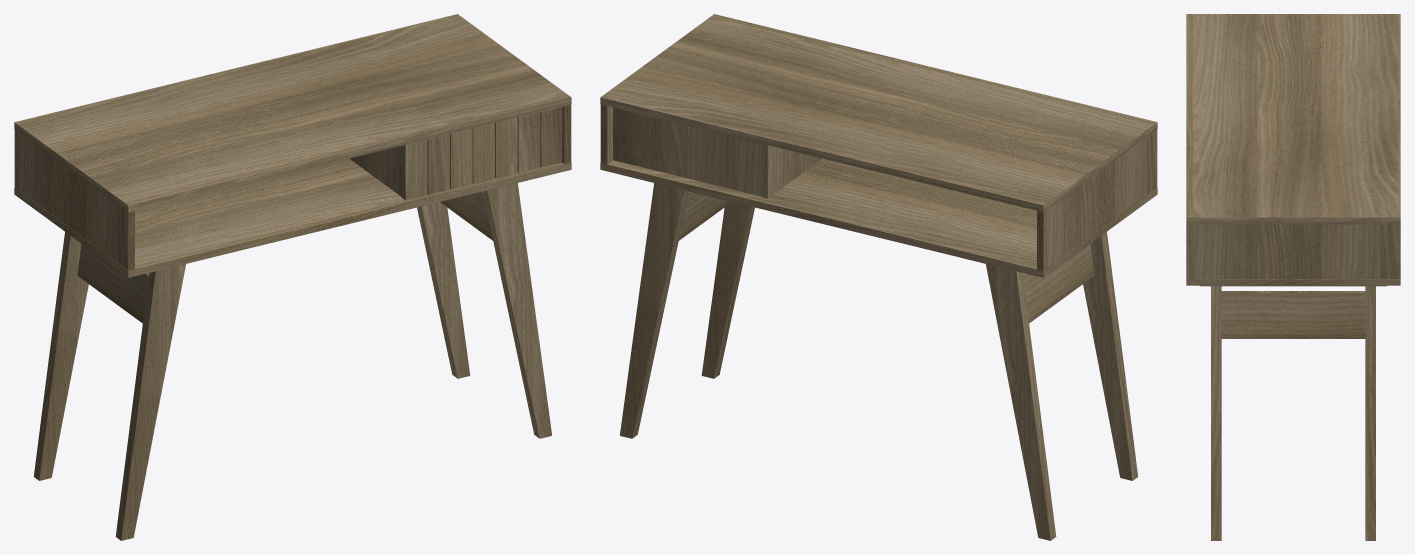
3 renders of one model, left to right at view 1: azimuth 30°, elevation 25°; view 2: azimuth 150°, elevation 25°; view 3: azimuth 270°, elevation 25°, orthographic. The views are drawn at different scales.
Parts seen in each view (by area): view 1: A334250-TAPASXXXTA, A334250-PISOSXXXPI, A334250-FRENTESXCA, Simetruc801334250-PATASXXXPA, A334250-COSTADOSIZ, A334250-PATASXXXPA001, A334250-PATASXXXPA, Simetruc801334250-PATASXXXPA001, A334250-PATASXXXRE, A334250-SEPDORESSE, A334250-PATASXXXRE001; view 2: A334250-TAPASXXXTA, A334250-PISOSXXXPI, A334250-FONDOSXXFO, A334250-PATASXXXPA, A334250-COSTADOSIZ, Simetruc801334250-PATASXXXPA001, Simetruc801334250-PATASXXXPA, A334250-PATASXXXPA001, A334250-PATASXXXRE, A334250-SEPDORESSE, A334250-PATASXXXRE001, A334250-COSTADOSDE; view 3: A334250-TAPASXXXTA, A334250-COSTADOSDE, A334250-PATASXXXRE001, A334250-PATASXXXPA001, Simetruc801334250-PATASXXXPA001, A334250-PISOSXXXPI, A334250-PATASXXXBA001.
Boxes of the visible parts, <box> form: A334250-TAPASXXXTA: <box>14,14,571,212</box>; A334250-PISOSXXXPI: <box>14,158,571,277</box>; A334250-FRENTESXCA: <box>401,106,561,200</box>; Simetruc801334250-PATASXXXPA: <box>115,264,185,540</box>; A334250-COSTADOSIZ: <box>14,129,134,270</box>; A334250-PATASXXXPA001: <box>483,183,552,438</box>; A334250-PATASXXXPA: <box>33,232,88,480</box>; Simetruc801334250-PATASXXXPA001: <box>417,202,470,378</box>; A334250-PATASXXXRE: <box>77,244,149,323</box>; A334250-SEPDORESSE: <box>349,146,401,196</box>; A334250-PATASXXXRE001: <box>440,191,492,240</box>; A334250-TAPASXXXTA: <box>600,14,1157,212</box>; A334250-PISOSXXXPI: <box>600,158,1157,277</box>; A334250-FONDOSXXFO: <box>613,107,761,196</box>; A334250-PATASXXXPA: <box>986,264,1056,540</box>; A334250-COSTADOSIZ: <box>1037,129,1157,270</box>; Simetruc801334250-PATASXXXPA001: <box>619,183,688,438</box>; Simetruc801334250-PATASXXXPA: <box>1083,232,1138,480</box>; A334250-PATASXXXPA001: <box>701,202,754,378</box>; A334250-PATASXXXRE: <box>1022,244,1094,323</box>; A334250-SEPDORESSE: <box>761,143,822,198</box>; A334250-PATASXXXRE001: <box>679,191,731,240</box>; A334250-COSTADOSDE: <box>600,104,612,164</box>; A334250-TAPASXXXTA: <box>1186,14,1400,224</box>; A334250-COSTADOSDE: <box>1186,224,1400,278</box>; A334250-PATASXXXRE001: <box>1221,291,1365,338</box>; A334250-PATASXXXPA001: <box>1211,286,1221,540</box>; Simetruc801334250-PATASXXXPA001: <box>1365,286,1375,540</box>; A334250-PISOSXXXPI: <box>1186,279,1400,285</box>; A334250-PATASXXXBA001: <box>1200,285,1386,286</box>.
Bounding box in the file's own units: 1 × 0.747 × 0.445.
Materials: 1 (1 with a texture image).
